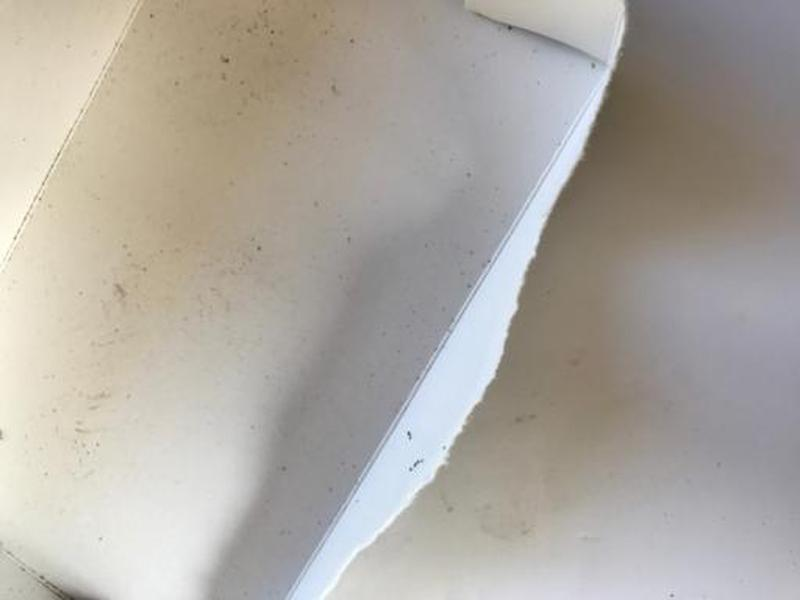paper: (1, 1, 634, 600)
